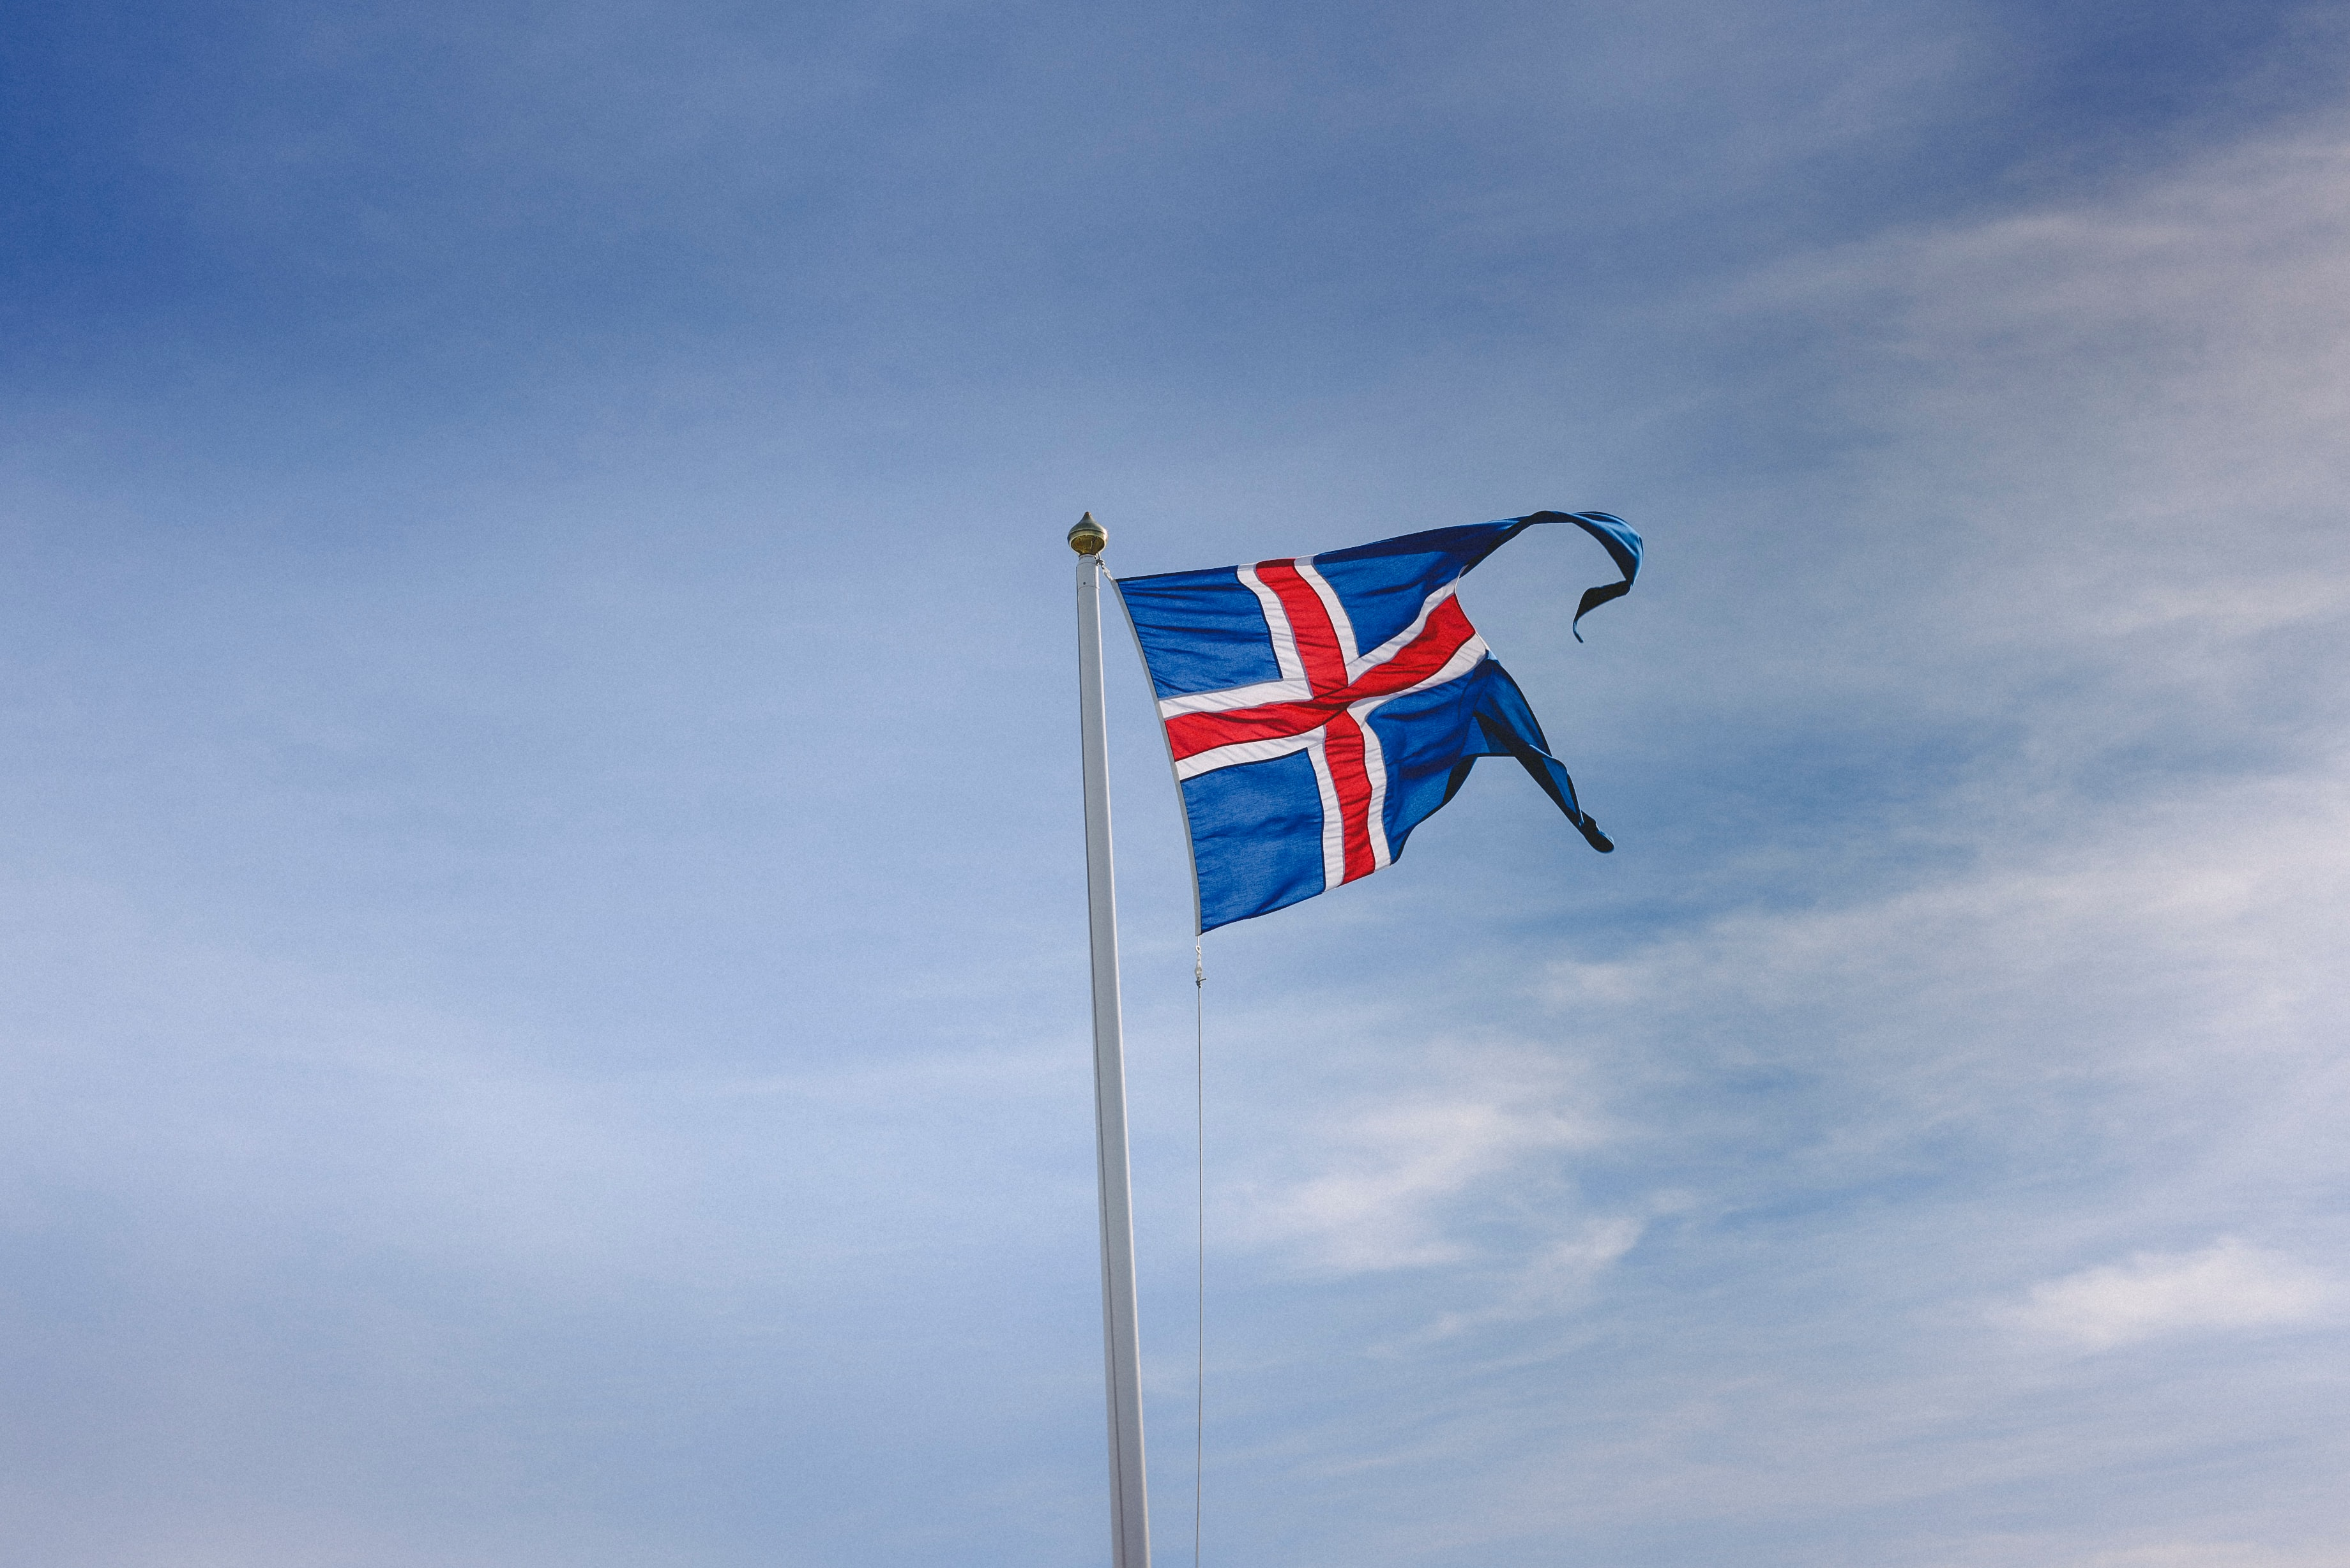Flag: (1111, 507, 1647, 933)
